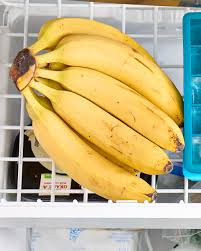banana: (8, 16, 186, 206)
